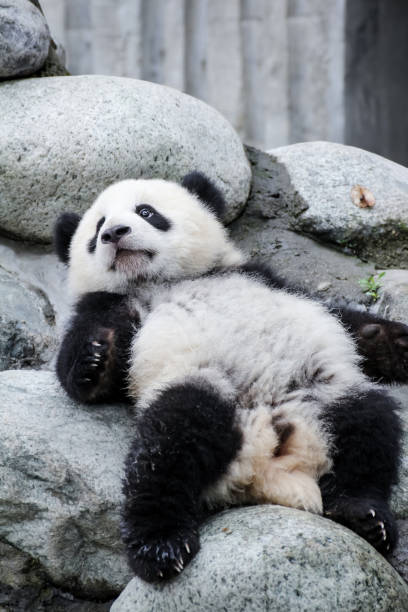panda: (34, 145, 255, 327)
